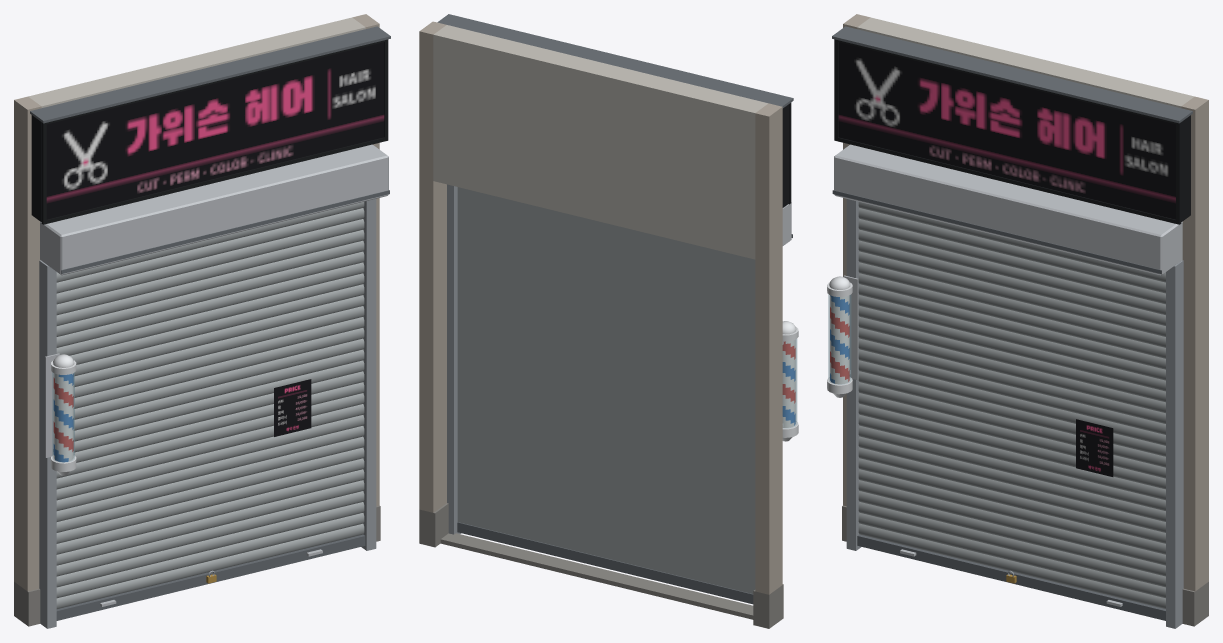
The model's file is SC_Shop_Hair_Closed.gltf.
3 renders of one model, left to right at view 1: azimuth 30°, elevation 25°; view 2: azimuth 150°, elevation 25°; view 3: azimuth 330°, elevation 25°, orthographic.
Visible parts, largest first — view 1: SC_Shop_Hair_Closed; view 2: SC_Shop_Hair_Closed; view 3: SC_Shop_Hair_Closed.
Part boxes in pixels (bbox=[...]): SC_Shop_Hair_Closed: bbox=[14, 14, 390, 628]; SC_Shop_Hair_Closed: bbox=[419, 14, 798, 628]; SC_Shop_Hair_Closed: bbox=[827, 14, 1208, 628].
Size of the model in its own units: 3 by 4.2 by 0.5852.
Materials: 3 (3 with a texture image).
